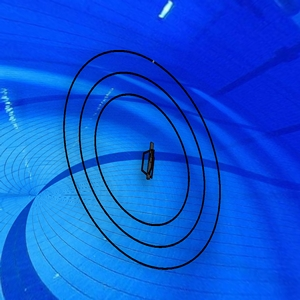circle: (61, 48, 225, 271)
submarine: (140, 141, 159, 184)
